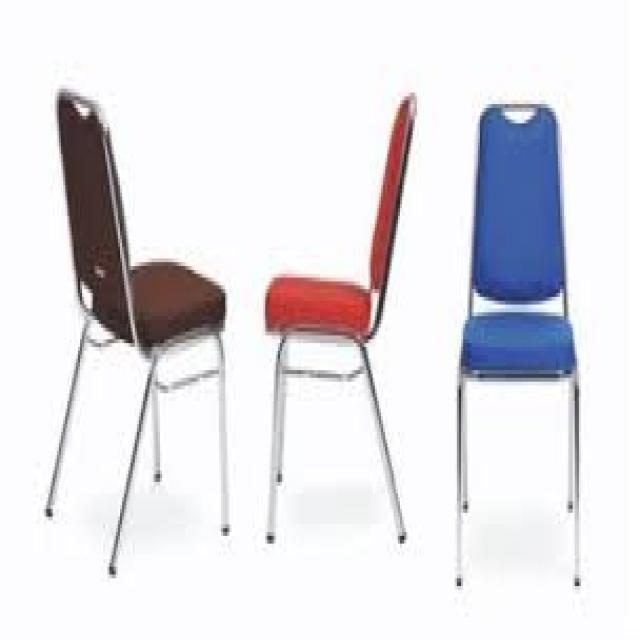chair: (43, 86, 234, 579), (263, 90, 415, 545), (451, 101, 583, 592)
